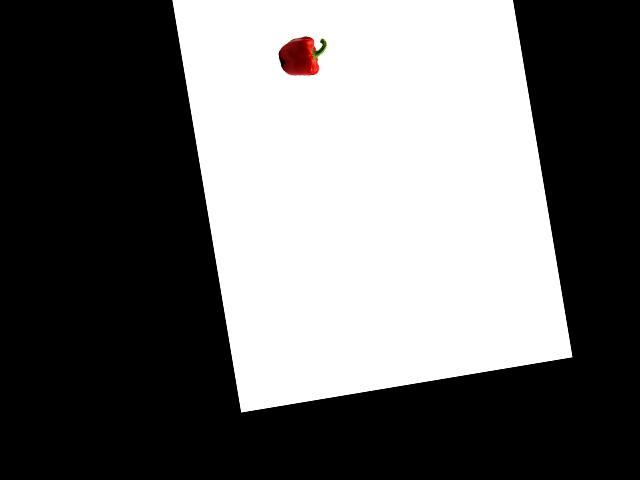bell_pepper: (274, 30, 332, 82)
